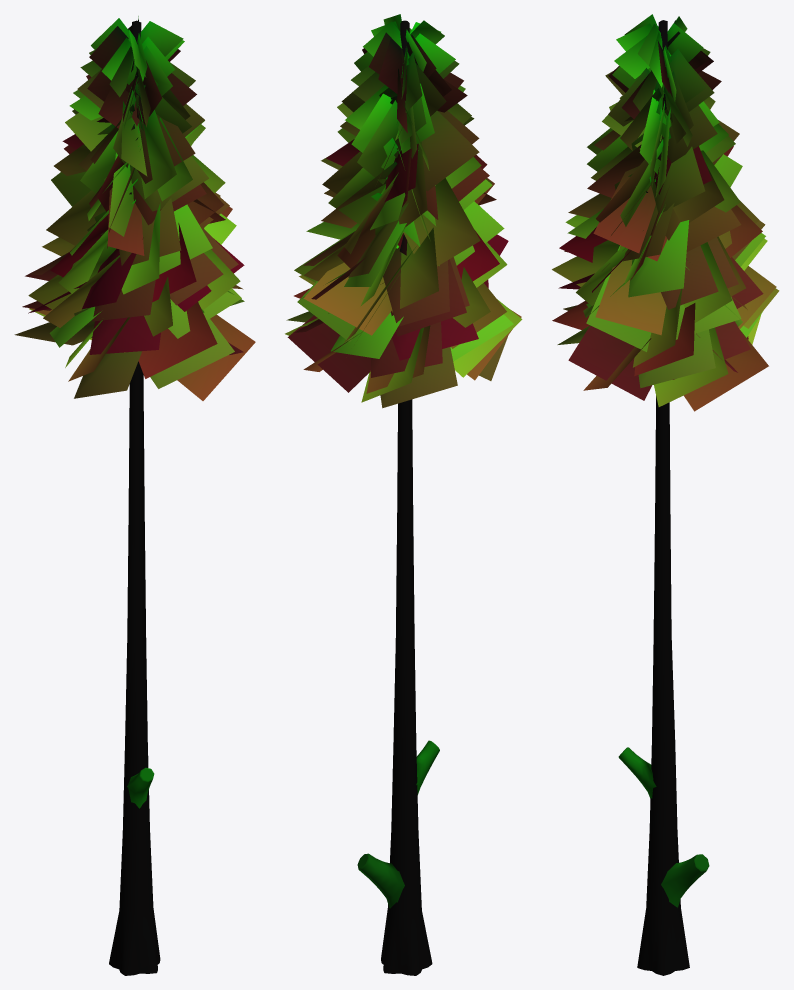
File: M_Pine_2_8.fbx
3 renders of one model, left to right at view 1: azimuth 30°, elevation 25°; view 2: azimuth 150°, elevation 25°; view 3: azimuth 270°, elevation 25°, orthographic.
Visible parts, largest first — view 1: Tree_8; view 2: Tree_8; view 3: Tree_8.
Part boxes in pixels (<box>): Tree_8: <box>14,16,255,975</box>; Tree_8: <box>285,14,522,975</box>; Tree_8: <box>552,14,779,975</box>.
Bounding box in the file's own units: 661 × 3010 × 659.
